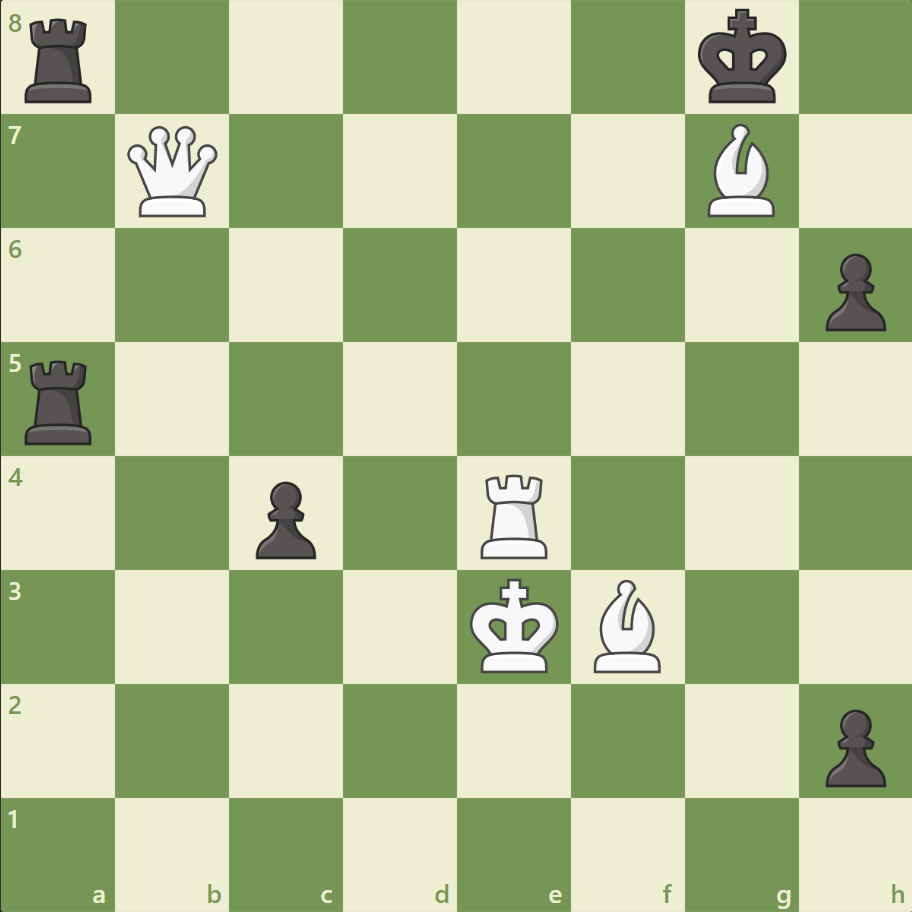B: (698, 120, 782, 222), (585, 574, 669, 676)
K: (465, 571, 565, 679)
Q: (124, 122, 223, 222)
R: (473, 466, 556, 563)
k: (692, 4, 792, 112)
p: (247, 473, 322, 564), (815, 246, 889, 337), (815, 700, 889, 791)
r: (19, 12, 102, 109), (19, 352, 102, 449)
